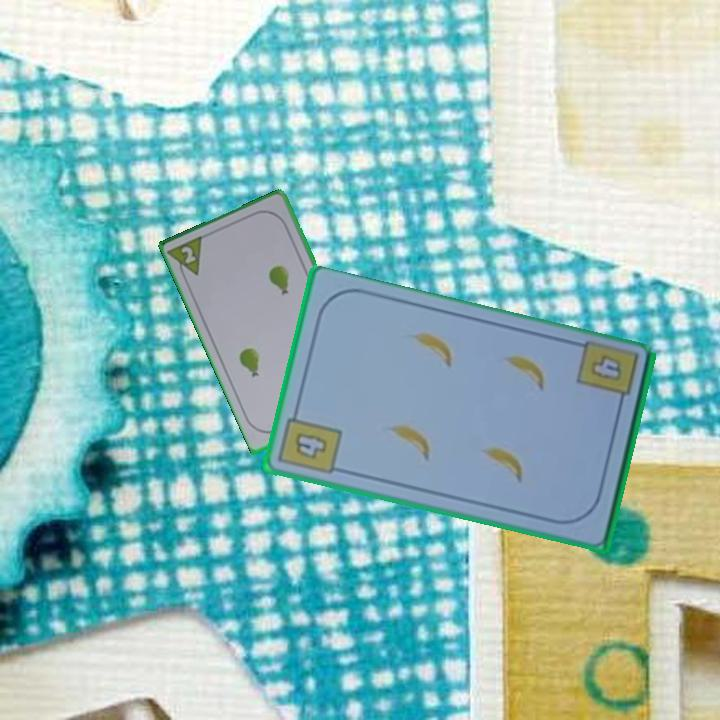2p: (178, 243, 199, 267)
4b: (275, 404, 345, 478), (586, 351, 625, 385)
